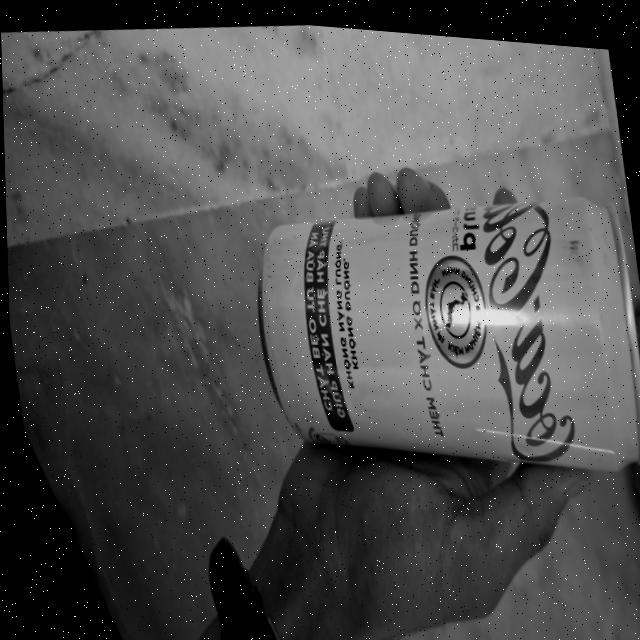Coca Cola Plus: (225, 164, 640, 513)
